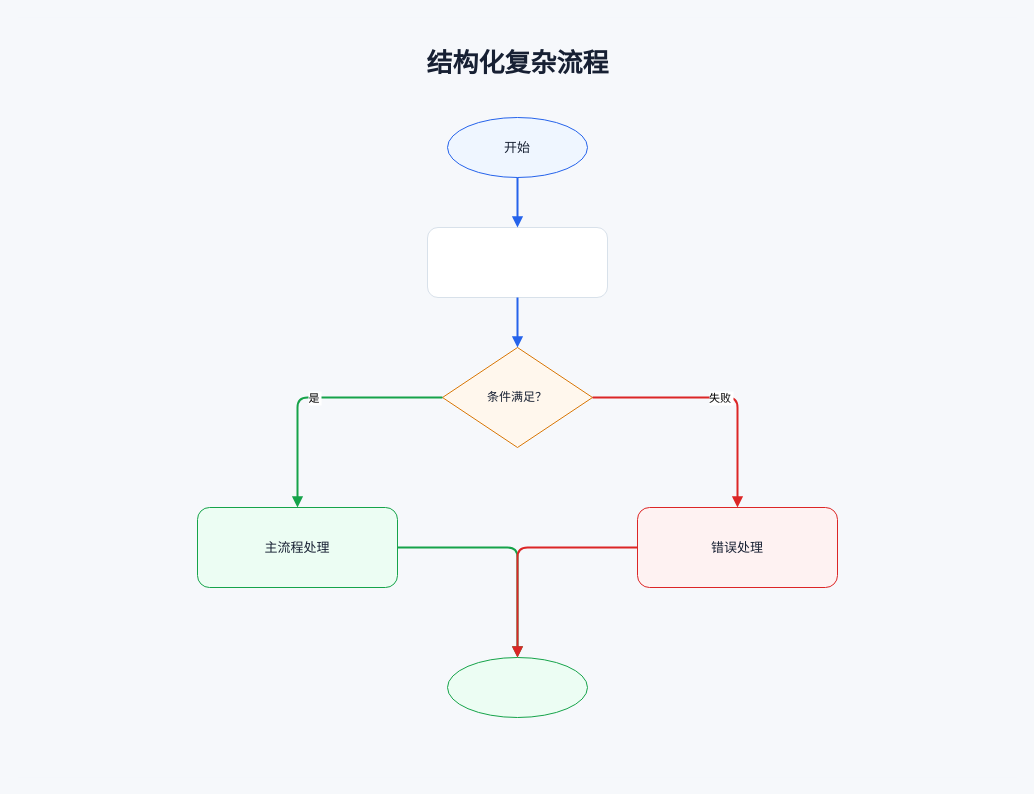
The diagram is 1034 pixels wide and 794 high, and some of its shapes have lost their labels. The shapes that lost their labels are listed below. From the top down, each one's centre as x and y in pixels, then its label:
[517,262]: 准备处理
[517,687]: 结束
